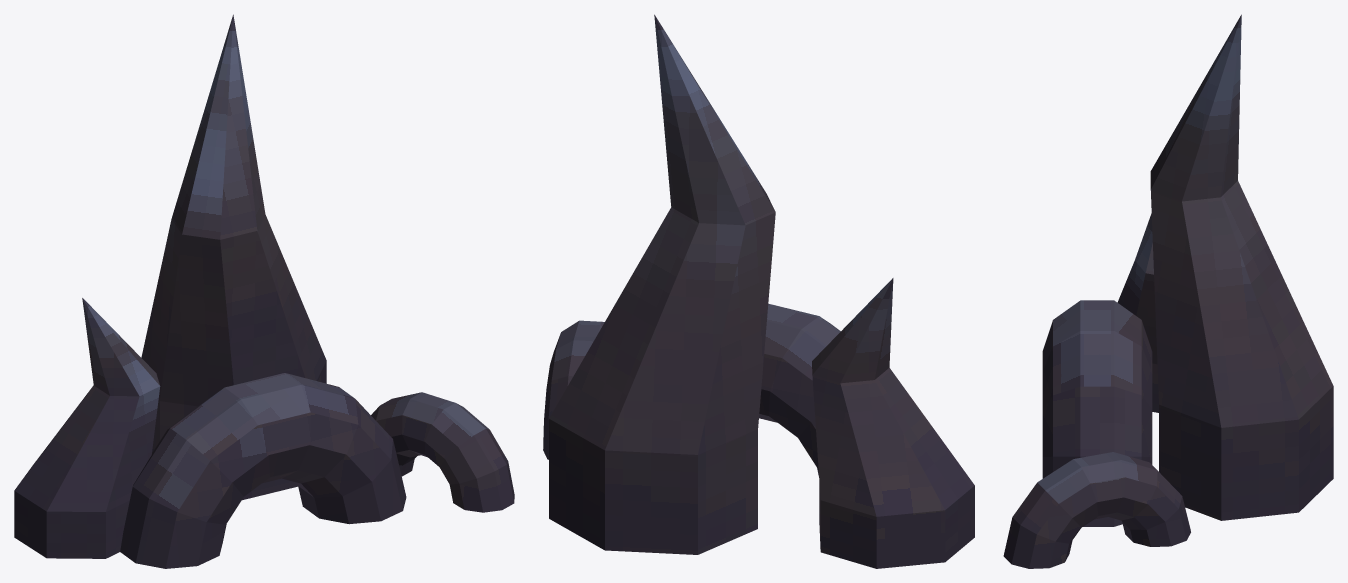
The model's file is Roots2.gltf.
3 renders of one model, left to right at view 1: azimuth 30°, elevation 25°; view 2: azimuth 150°, elevation 25°; view 3: azimuth 270°, elevation 25°, orthographic. The views are drawn at different scales.
Parts seen in each view (by area): view 1: cylinder (×2), torus (×2); view 2: cylinder (×2), torus (×2); view 3: cylinder (×2), torus (×2).
Boxes of the visible parts, bbox=[...] form: cylinder (×2): bbox=[14, 14, 326, 558]; torus (×2): bbox=[120, 373, 514, 568]; cylinder (×2): bbox=[549, 14, 974, 568]; torus (×2): bbox=[543, 303, 840, 475]; cylinder (×2): bbox=[1117, 14, 1333, 520]; torus (×2): bbox=[1003, 300, 1190, 568].
Bounding box in the file's own units: 0.2926 × 0.3 × 0.193.
Materials: 1 (1 with a texture image).
